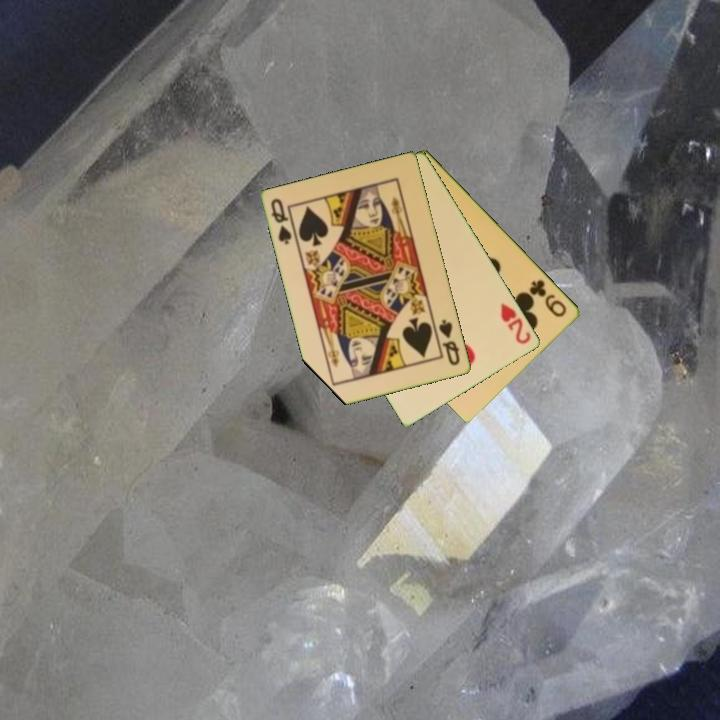2h: (497, 299, 534, 347)
9c: (526, 276, 570, 320)
Qs: (435, 316, 463, 369), (268, 195, 295, 247)
